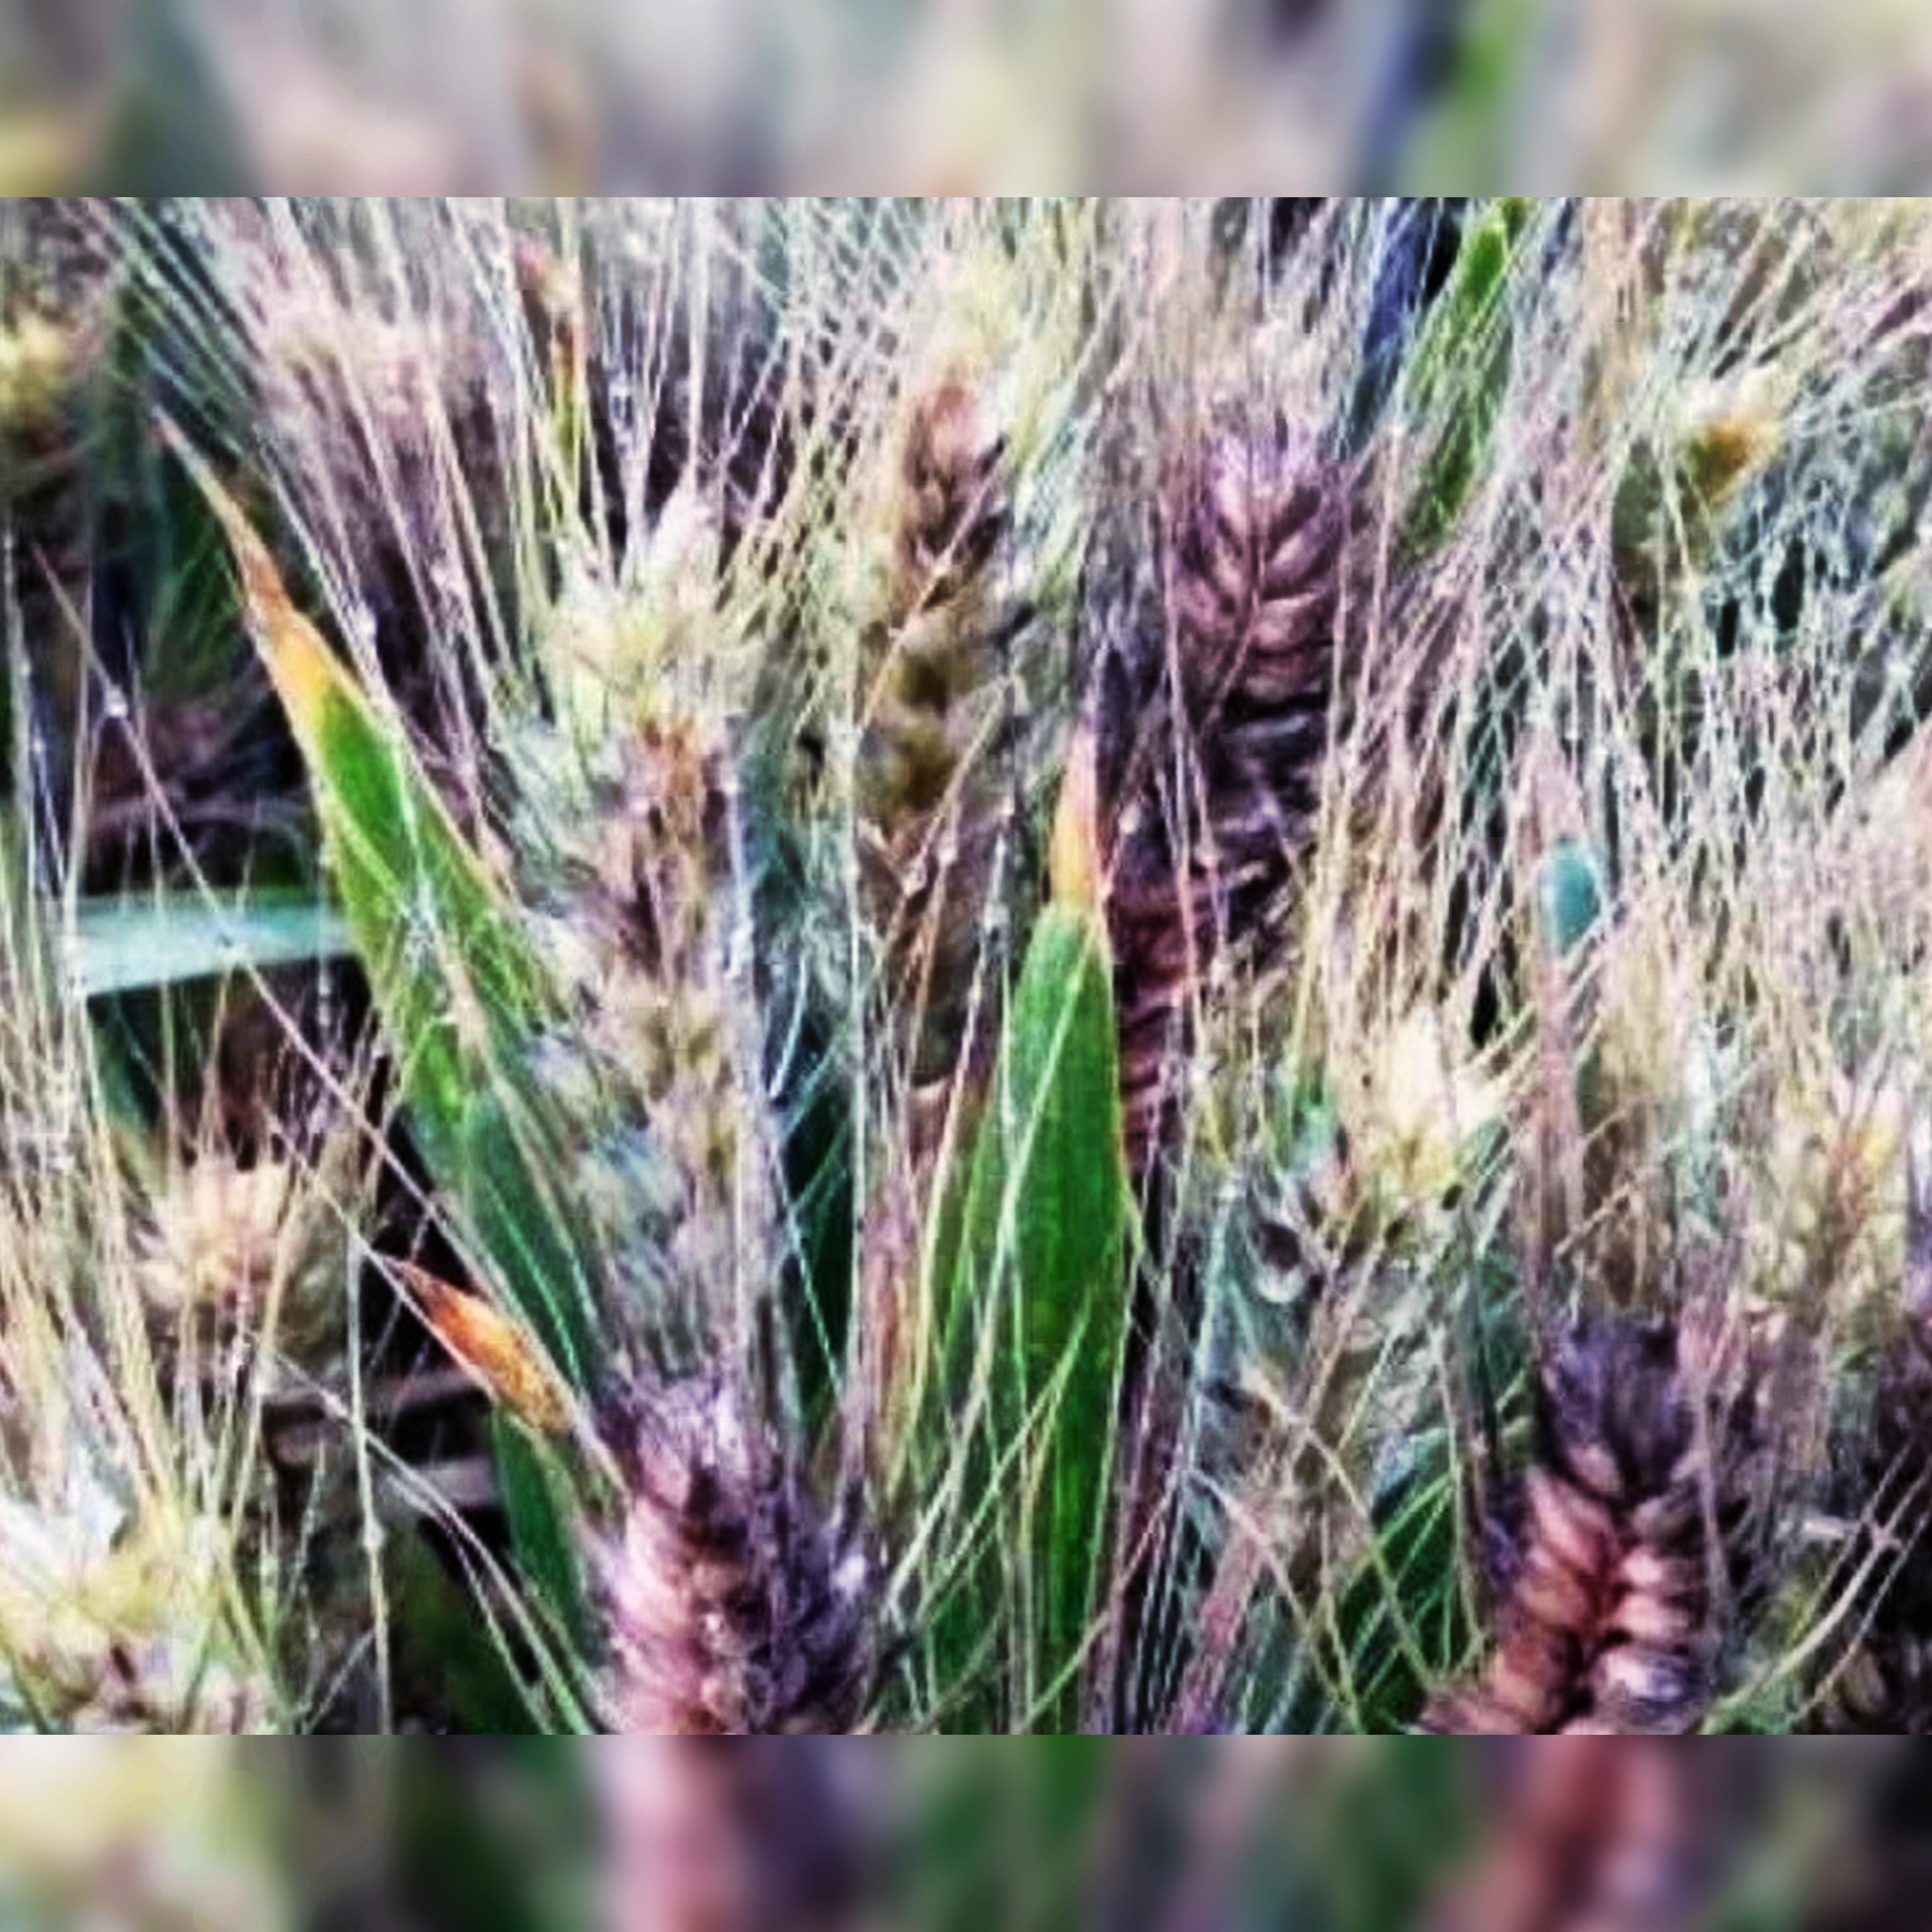Wheat scab: (1097, 350, 1401, 1008), (1438, 1304, 1794, 1730)
